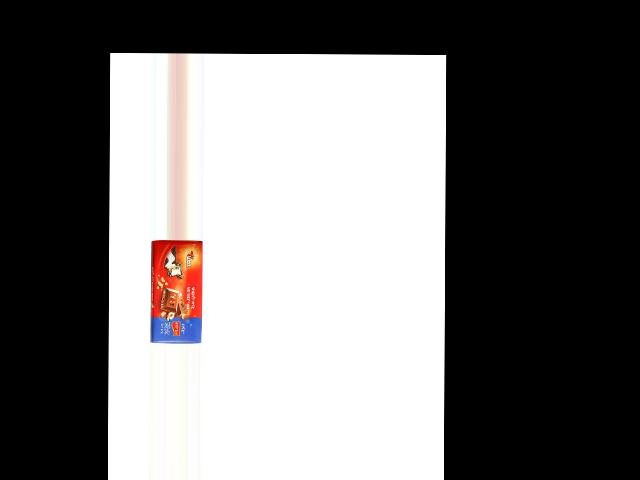chocolate: (146, 240, 201, 342)
